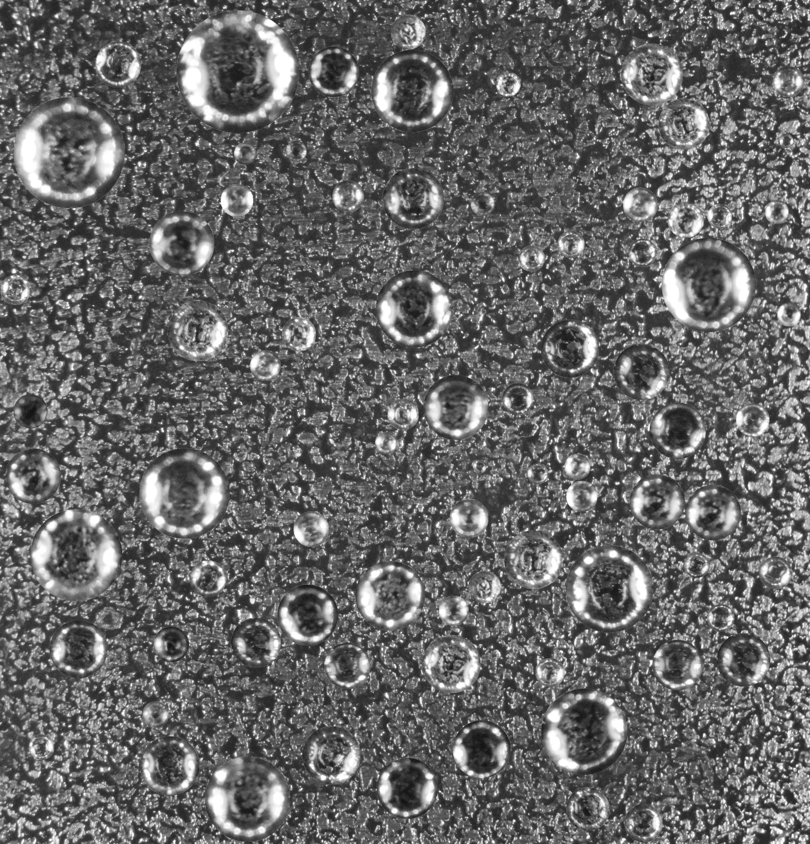Bubble: (176, 10, 299, 132), (13, 97, 124, 208), (661, 237, 755, 331), (30, 509, 122, 601), (139, 448, 229, 538), (565, 545, 653, 632), (541, 688, 627, 774), (204, 756, 290, 841), (371, 49, 453, 131), (375, 270, 452, 347), (355, 561, 424, 630), (149, 211, 214, 275), (423, 375, 488, 439), (621, 43, 682, 105), (382, 168, 443, 229), (277, 584, 338, 645), (167, 300, 228, 361), (376, 758, 437, 818), (140, 736, 199, 795), (504, 530, 563, 589), (49, 620, 107, 678), (302, 726, 360, 784), (541, 319, 599, 377), (452, 720, 510, 778), (422, 635, 480, 693), (649, 402, 706, 458), (685, 484, 740, 540), (613, 344, 669, 399), (5, 448, 60, 503), (629, 474, 684, 529), (717, 633, 770, 686), (658, 98, 709, 149), (308, 46, 358, 96), (652, 640, 702, 690), (231, 617, 280, 667), (324, 642, 370, 688), (95, 41, 141, 87), (566, 787, 609, 830), (449, 498, 488, 537), (624, 804, 662, 842), (189, 560, 226, 596), (667, 201, 703, 237), (153, 626, 188, 662), (390, 14, 425, 49), (293, 511, 328, 546), (281, 317, 315, 351), (623, 187, 657, 221), (13, 394, 47, 428), (759, 556, 792, 589), (736, 403, 769, 436), (220, 184, 253, 216), (332, 180, 364, 212), (468, 571, 500, 603), (773, 66, 804, 97), (387, 398, 418, 429), (566, 480, 597, 511), (502, 383, 533, 414), (250, 350, 280, 380), (0, 274, 30, 304), (438, 595, 468, 625), (535, 658, 564, 687), (628, 238, 656, 266), (707, 604, 734, 631), (557, 230, 584, 257), (142, 701, 168, 727), (564, 453, 590, 479), (518, 245, 544, 271), (28, 734, 54, 759), (684, 552, 709, 577), (496, 71, 520, 96), (707, 204, 732, 228), (470, 192, 494, 215), (777, 302, 800, 326), (765, 200, 788, 223), (375, 431, 397, 454), (234, 142, 256, 164), (527, 463, 548, 484), (286, 140, 306, 161), (778, 133, 793, 148), (472, 459, 486, 473)
